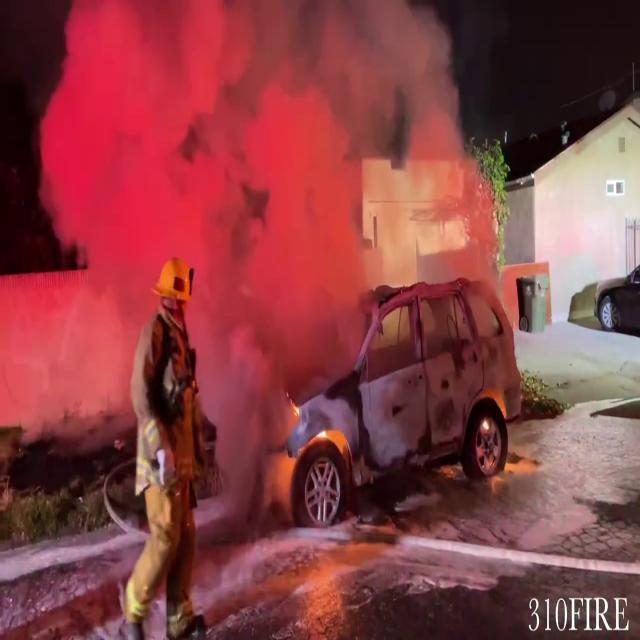Smoke: (34, 0, 483, 392)
